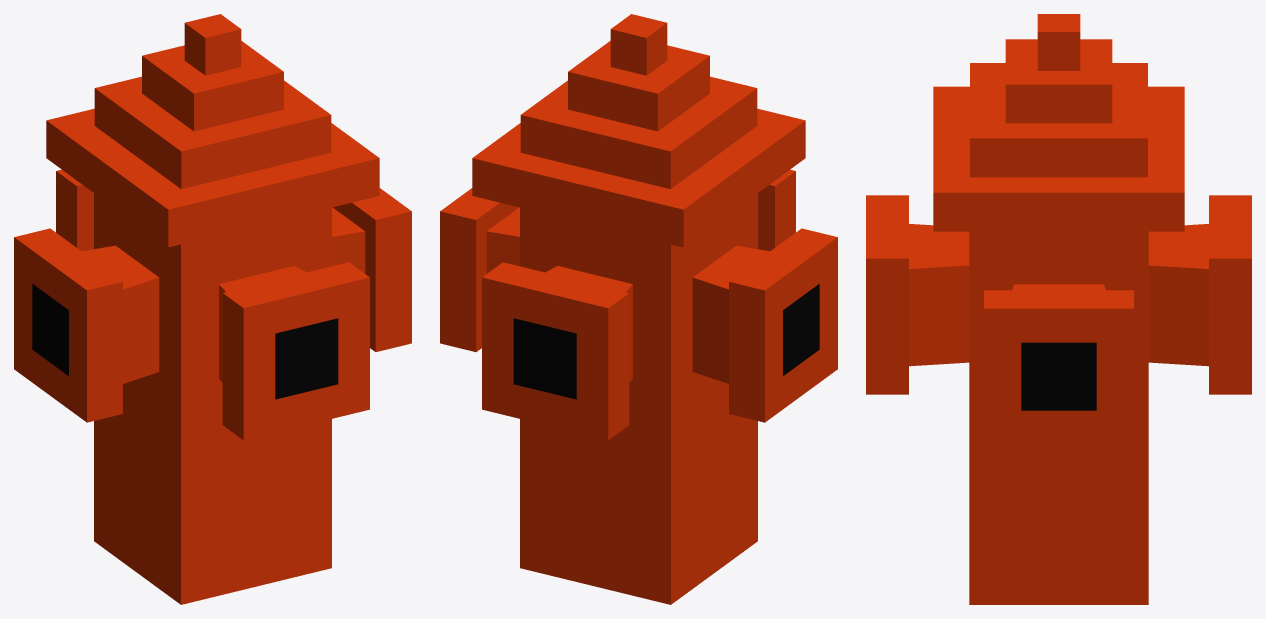
File: Tower1.fbx
3 views of the same model, side by side, from view 1: azimuth 30°, elevation 25°; view 2: azimuth 150°, elevation 25°; view 3: azimuth 270°, elevation 25° (orthographic). The views are drawn at different scales.
Parts seen in each view (by area): view 1: Cube; view 2: Cube; view 3: Cube.
Boxes of the visible parts, bbox=[...] form: Cube: bbox=[14, 14, 411, 604]; Cube: bbox=[440, 14, 837, 604]; Cube: bbox=[866, 14, 1251, 604].
Bounding box in the file's own units: 90 × 140 × 90.
